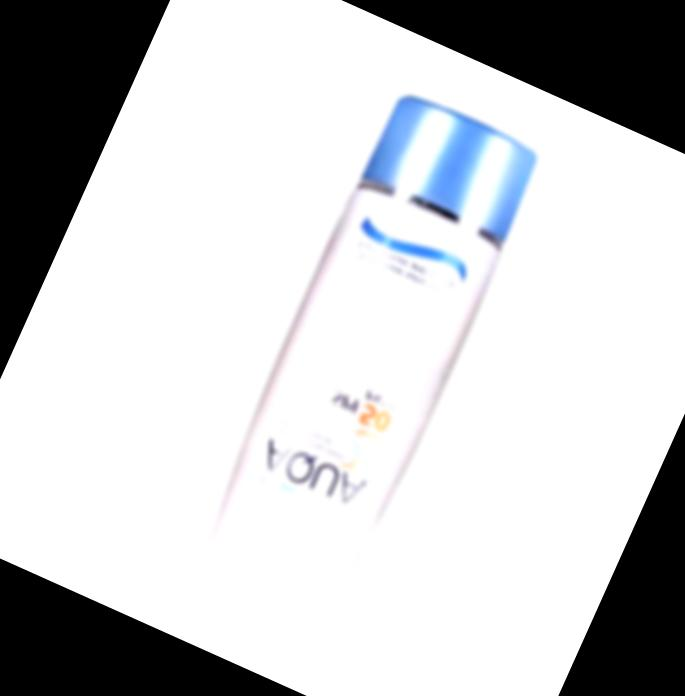cosmetic: (179, 87, 550, 643)
